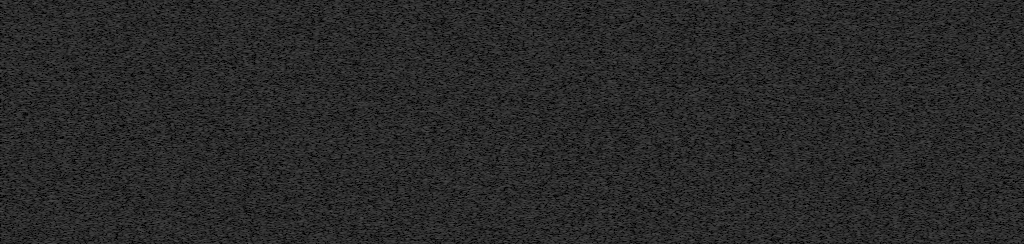wv_am: (342, 0, 351, 244)
wv_cw: (208, 0, 220, 244), (0, 0, 9, 244)
wv_lsb: (280, 4, 287, 244), (822, 6, 828, 244), (386, 60, 393, 153), (387, 164, 393, 213), (876, 146, 883, 183), (876, 122, 883, 142), (876, 94, 882, 114), (876, 217, 882, 236), (876, 190, 882, 208), (387, 20, 392, 39), (387, 214, 393, 229), (387, 6, 392, 19), (388, 40, 392, 48), (387, 241, 392, 244), (387, 154, 392, 157), (388, 231, 391, 235)
wv_usb: (217, 3, 224, 244)
wv_wbfm: (100, 0, 119, 244), (120, 0, 138, 244), (81, 0, 99, 244), (142, 0, 154, 137), (67, 0, 76, 136), (142, 164, 156, 244), (65, 164, 78, 244), (65, 137, 78, 164), (143, 152, 156, 164), (144, 137, 154, 152)
